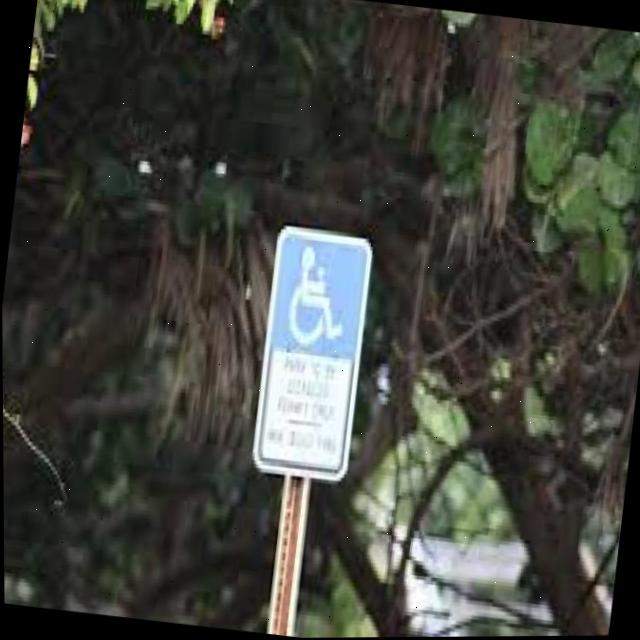symbol_of_access: (275, 237, 356, 354)
